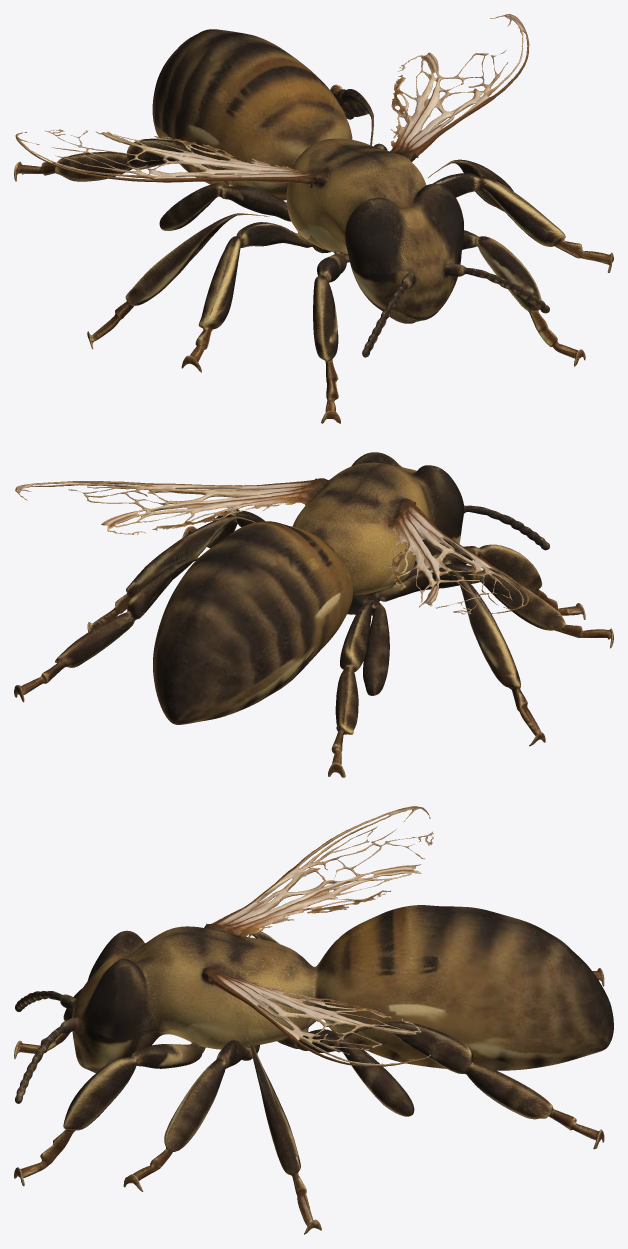
The model's file is bee.glb.
3 renders of one model, top to bottom at view 1: azimuth 30°, elevation 25°; view 2: azimuth 150°, elevation 25°; view 3: azimuth 270°, elevation 25°, orthographic. The views are drawn at different scales.
Size of the model in its own units: 1.87 by 0.7206 by 1.86.
1 material, 1 textured.
